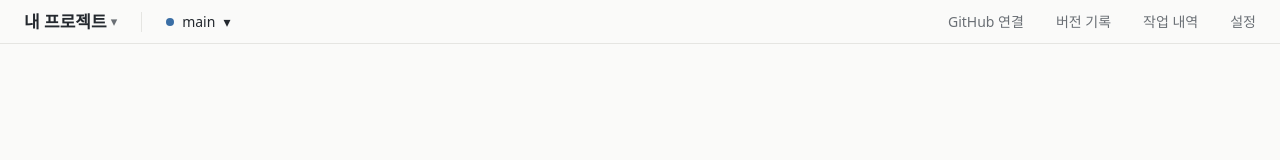
Test: TopBar › 프로젝트 이름과 브랜치를 보여준다
Hover over the button with aria-label "프로젝트 메뉴: 내 프로젝트": (71, 22) [16,5,125,38]
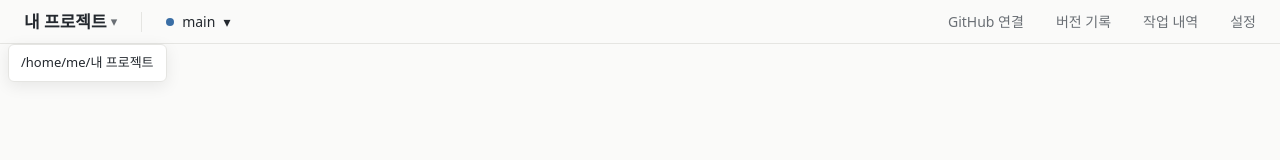
Now the tooltip reads "/home/me/내 프로젝트", box [21,53,154,71]
